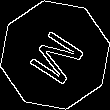M_SE: (21, 22, 89, 88)
